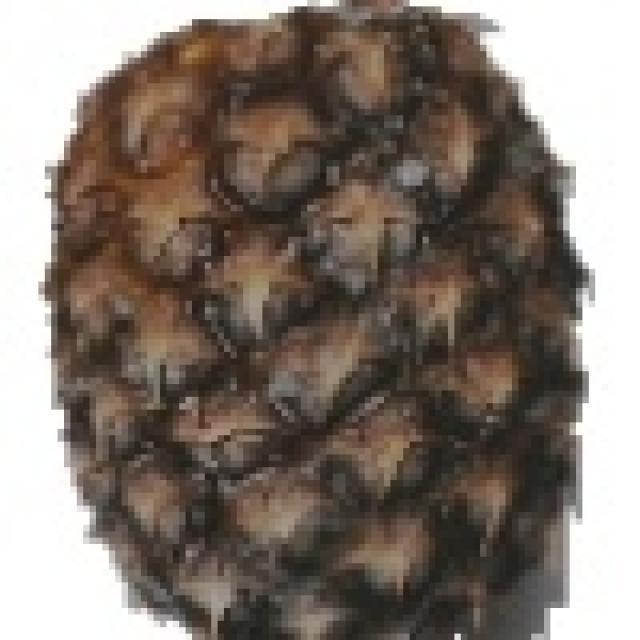pineapple: (45, 0, 589, 640)
